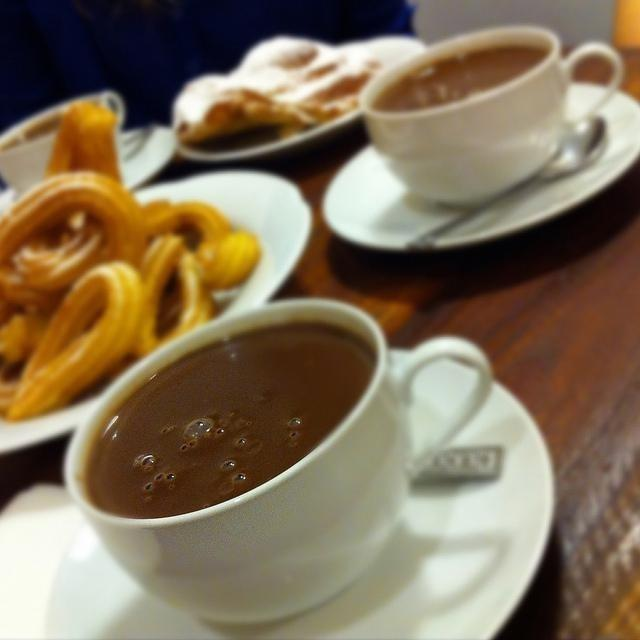cup-handle: (66, 300, 494, 622), (351, 23, 630, 212)
